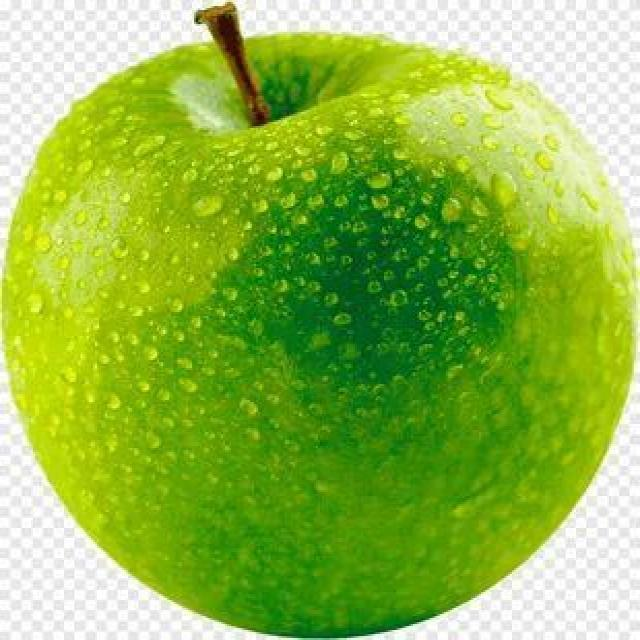Fresh Apple: (25, 37, 627, 638)
